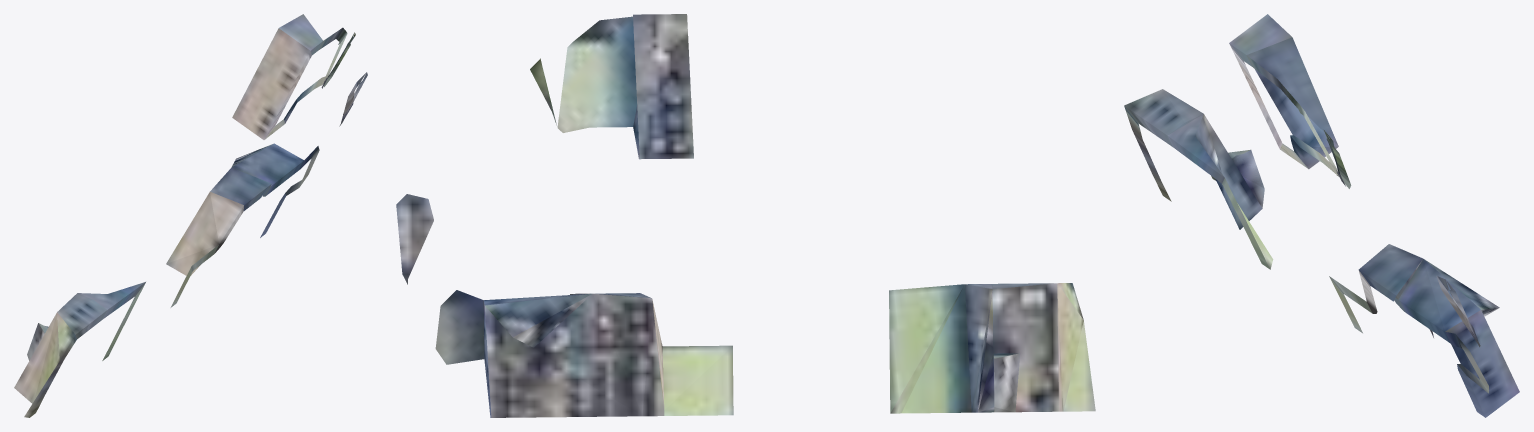
The picture shows the model from 3 angles, left to right: view 1: azimuth 30°, elevation 25°; view 2: azimuth 150°, elevation 25°; view 3: azimuth 270°, elevation 25°; orthographic projection. The views are drawn at different scales.
Size of the model in its own units: 73.8 by 44.85 by 44.1.
1 material, 1 textured.
